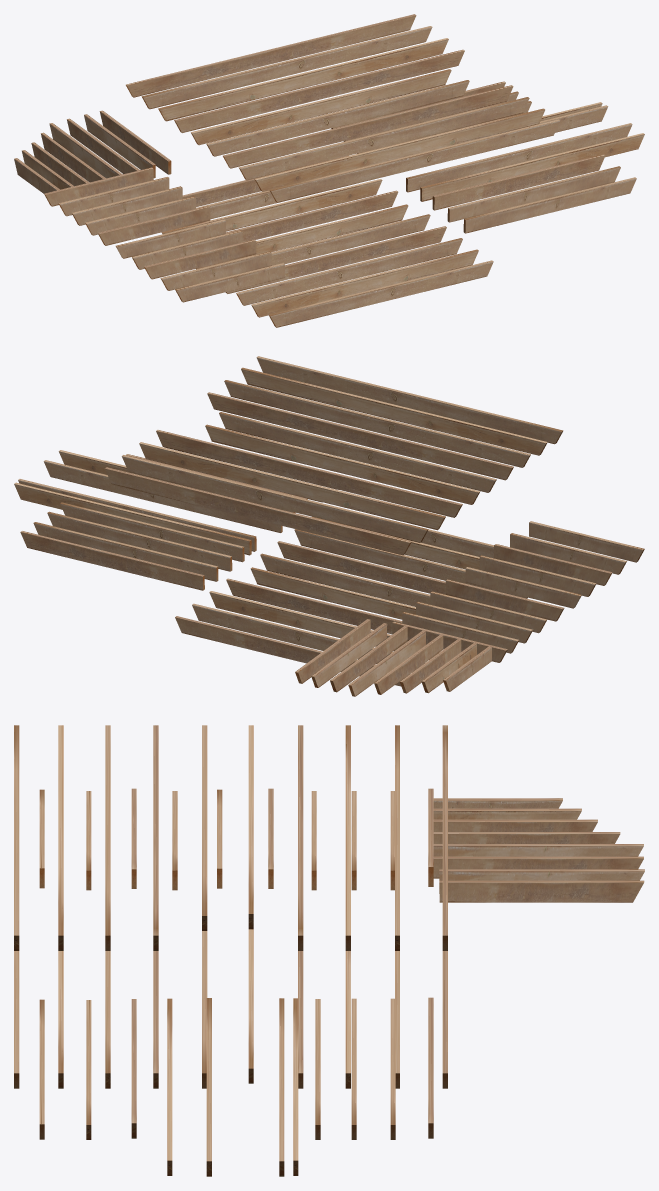
Rendered from joists.fbx.
The picture shows the model from 3 angles, top to bottom: view 1: azimuth 30°, elevation 25°; view 2: azimuth 150°, elevation 25°; view 3: azimuth 270°, elevation 25°; orthographic projection. The views are drawn at different scales.
Parts seen in each view (by area): view 1: pCube267; view 2: pCube267; view 3: pCube267.
Boxes of the visible parts, box(x1,y1,x2,y2) form: pCube267: box(14, 14, 644, 327); pCube267: box(14, 356, 644, 696); pCube267: box(14, 725, 644, 1176).
Bounding box in the file's own units: 24.5 × 6.31 × 17.52.
7 materials, 7 textured.
